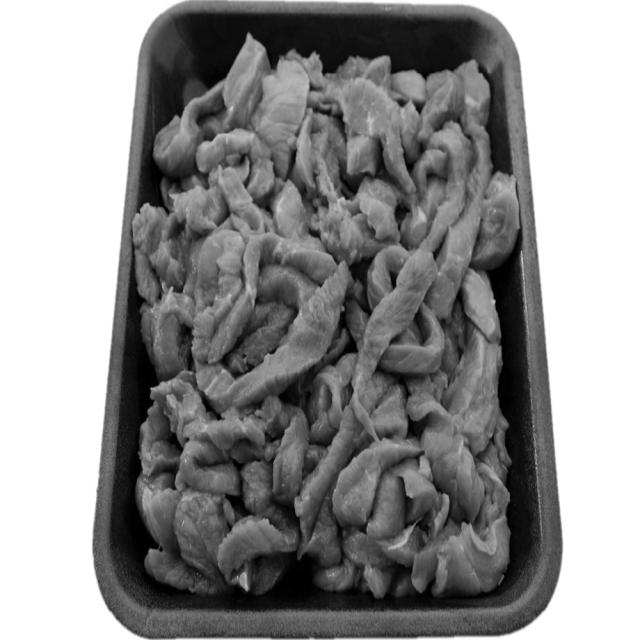meat pieces: (174, 65, 499, 582)
